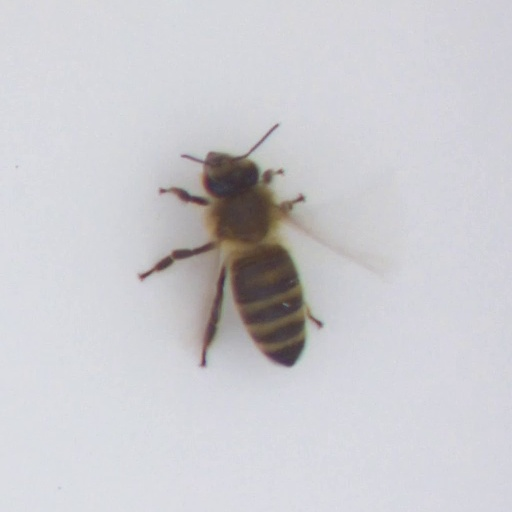Bee: (185, 138, 338, 373)
Thorax: (209, 189, 276, 246)
